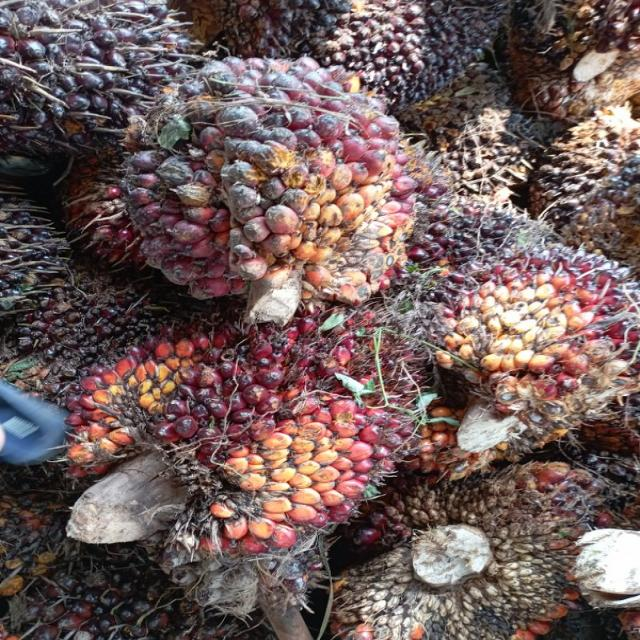fraksi 1: (23, 263, 474, 608), (55, 15, 507, 352), (375, 227, 640, 476)
